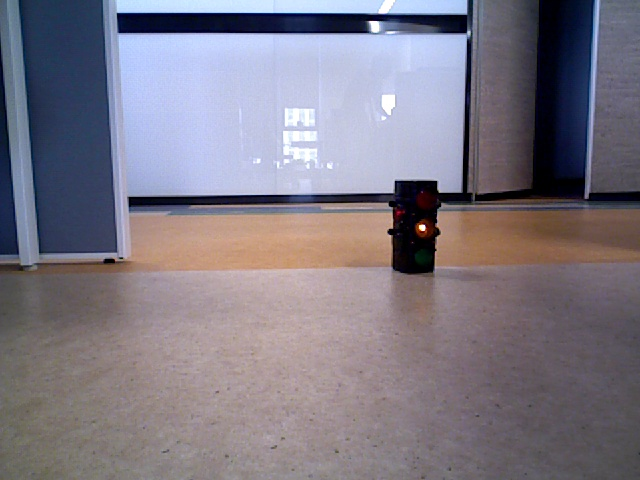yellow: (393, 181, 430, 271)
